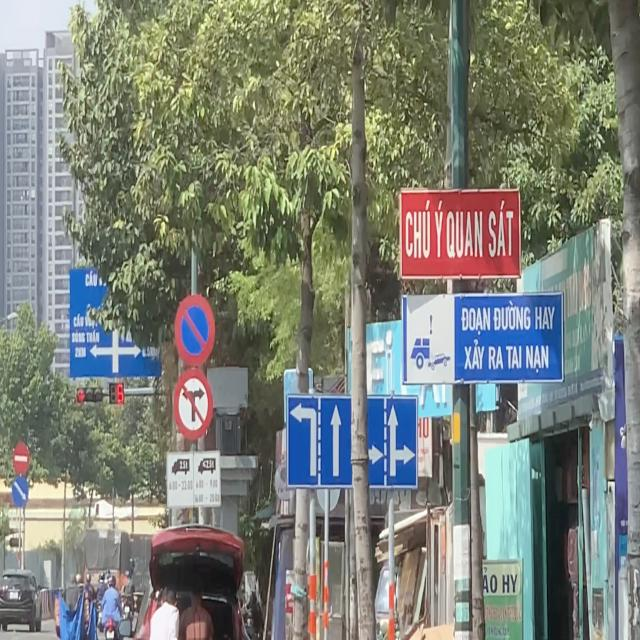Cam con lai: (174, 368, 214, 440)
Cam do: (174, 294, 215, 368)
Cam nguoc chieu: (13, 442, 29, 474)
Hieu lenh: (12, 476, 29, 509)
